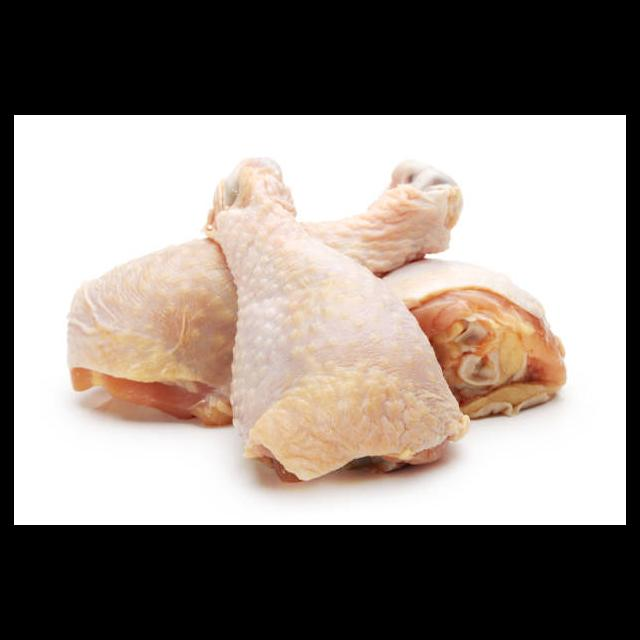chicken: (67, 161, 465, 424), (205, 156, 473, 486), (375, 258, 570, 420)
